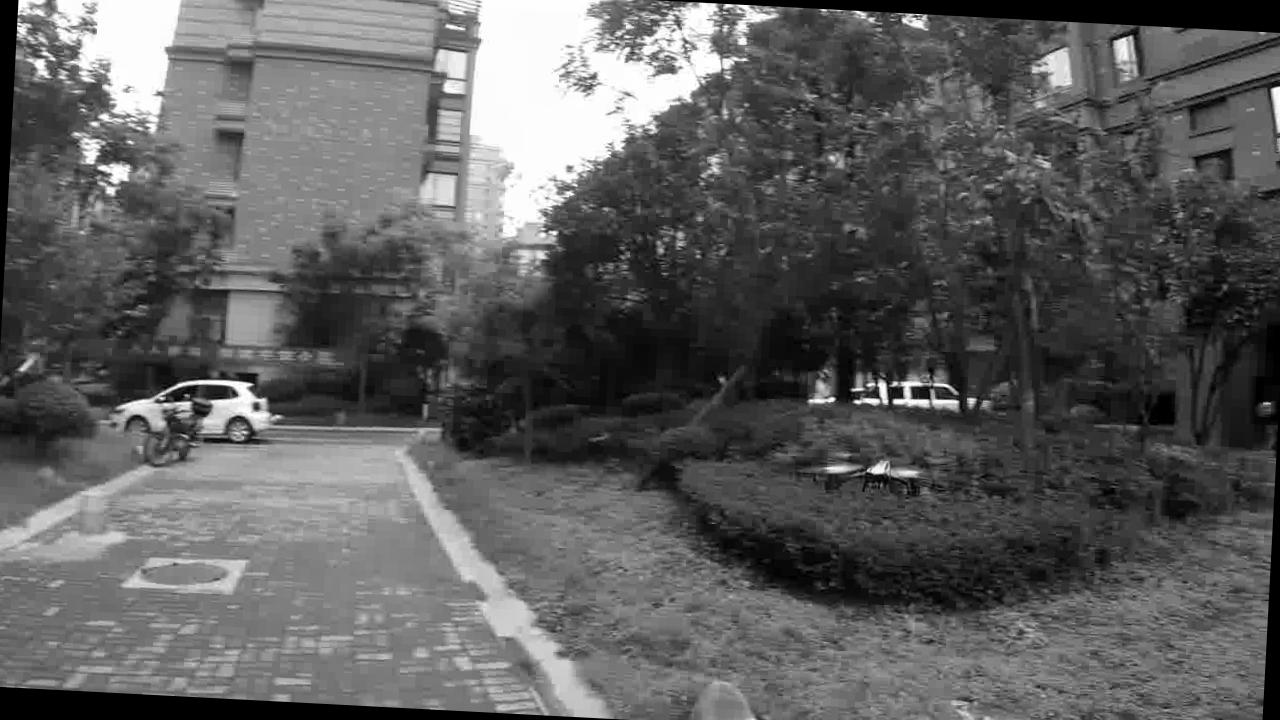drone: (801, 440, 955, 505)
